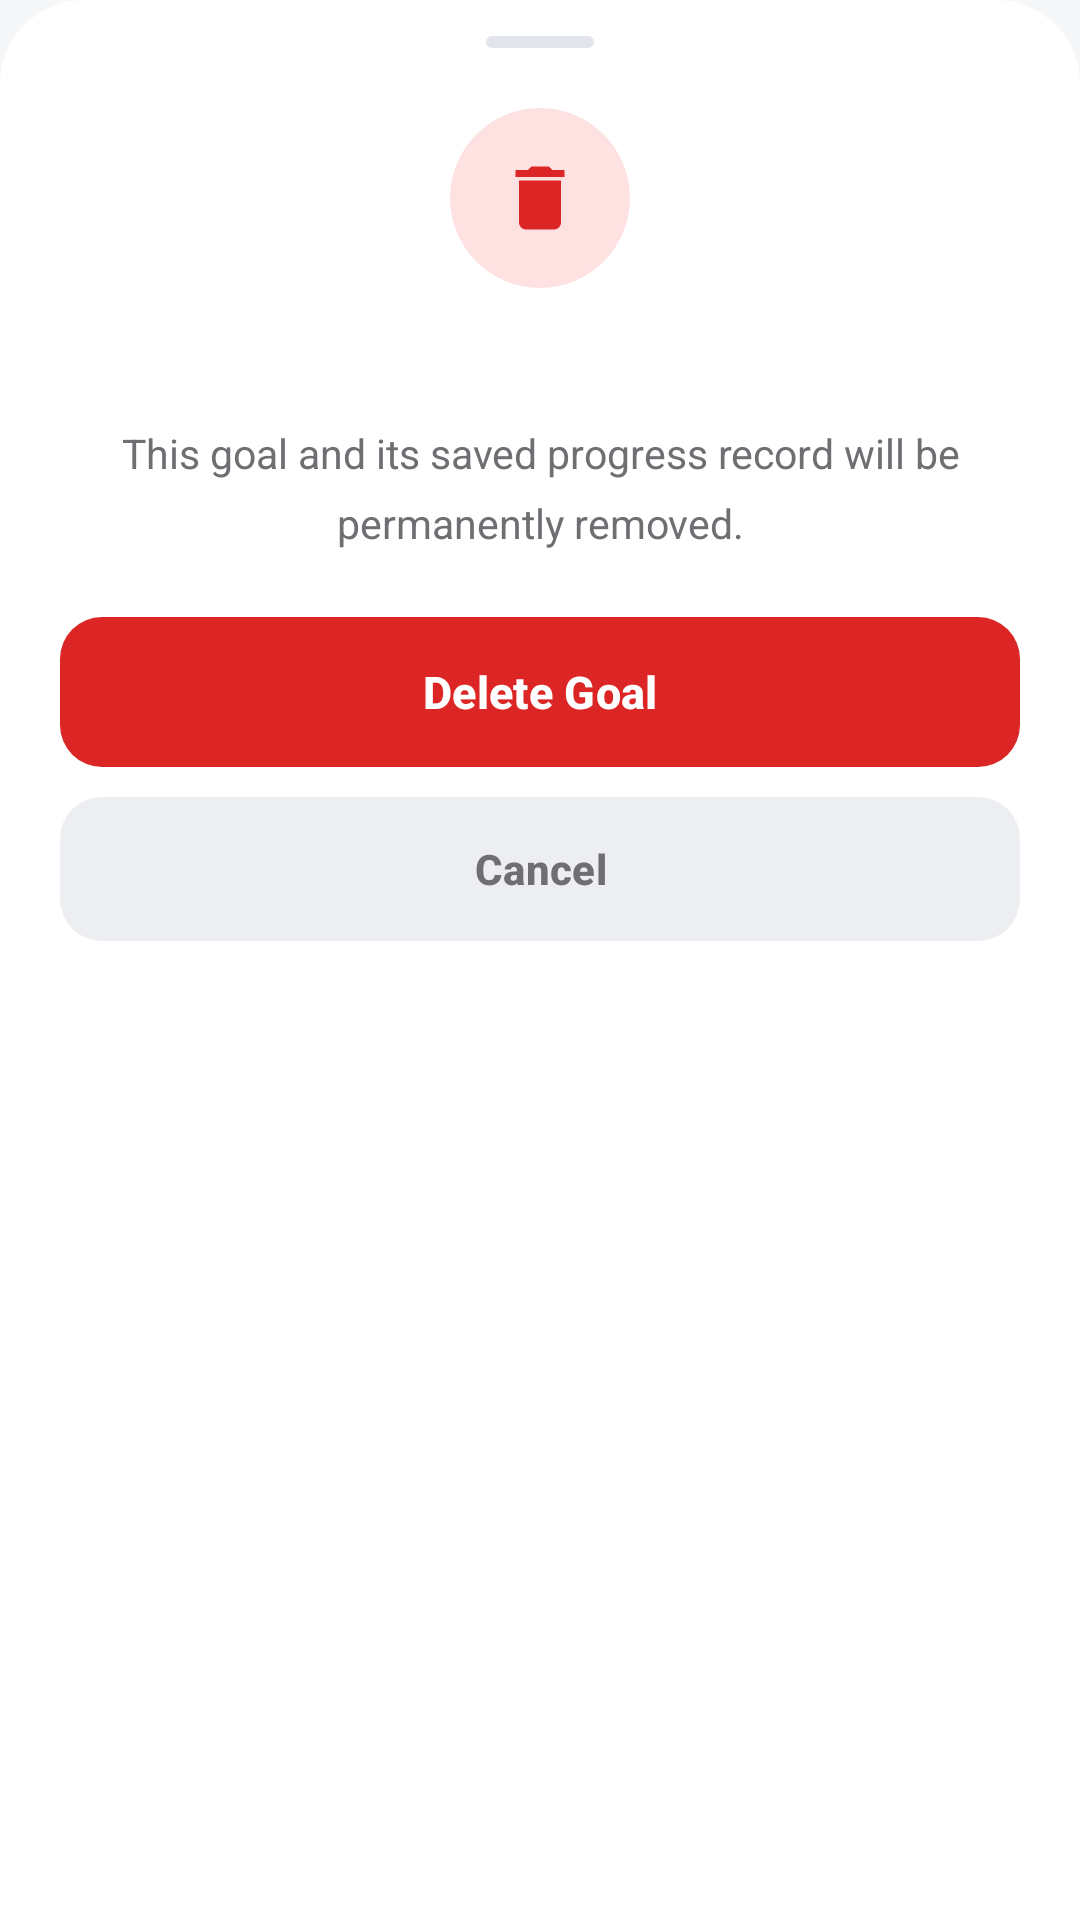

Screen size 1080×1920. Icon name, then its box in pixels as (x1, y1, x2, y2):
delete: (515, 166, 565, 230)
